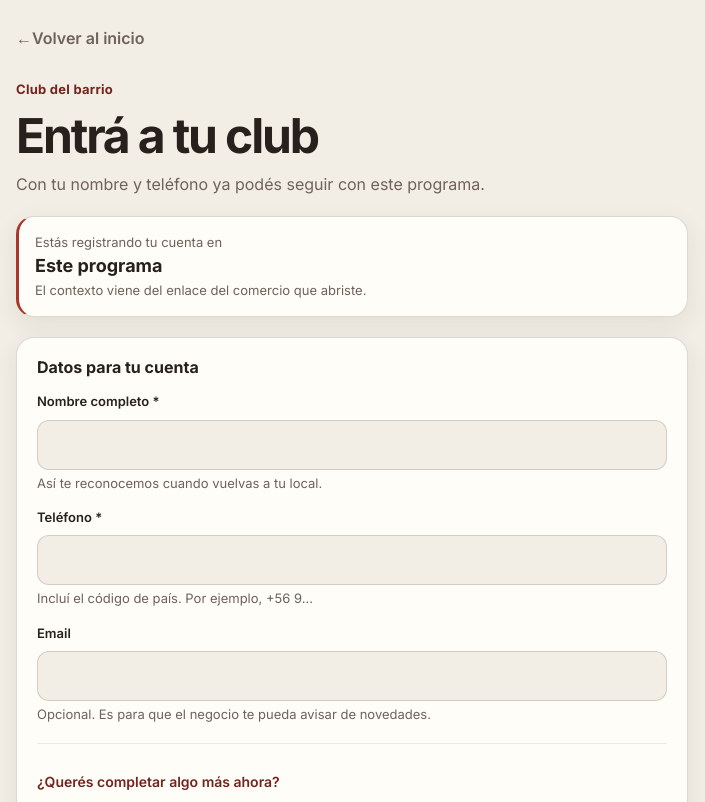
registration behavior › surfaces a 4xx server message without reporting a local gateway outage
This screenshot has width=705, height=802.
Step 1. Type "Ada Lovelace" into the field labelled "Nombre completo *" → [352, 445], box x1=37 y1=420 x2=667 y2=470
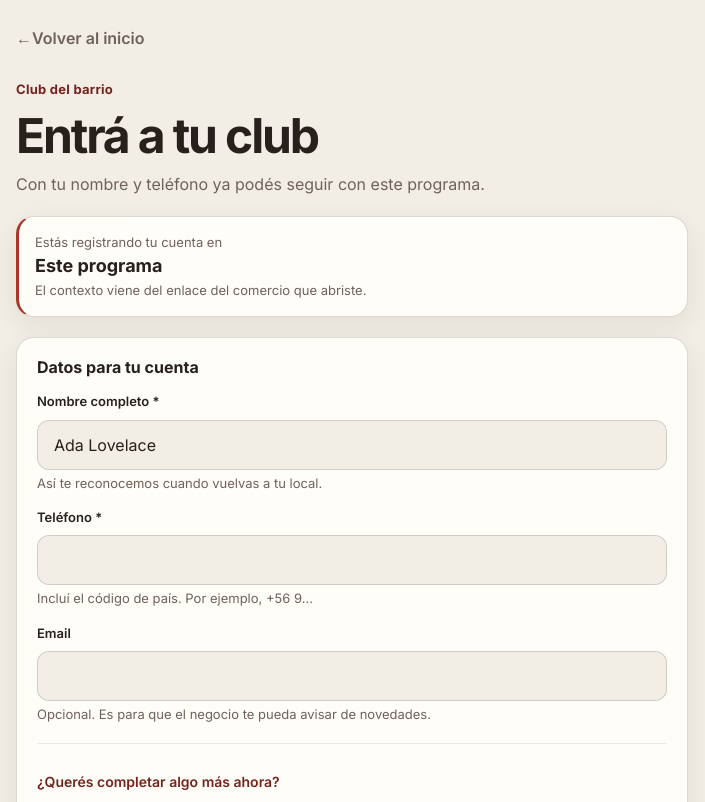
Step 2. Type "+56 9 1234 5678" into the field labelled "Teléfono *" → [352, 560], box x1=37 y1=535 x2=667 y2=585
(page scrolled)
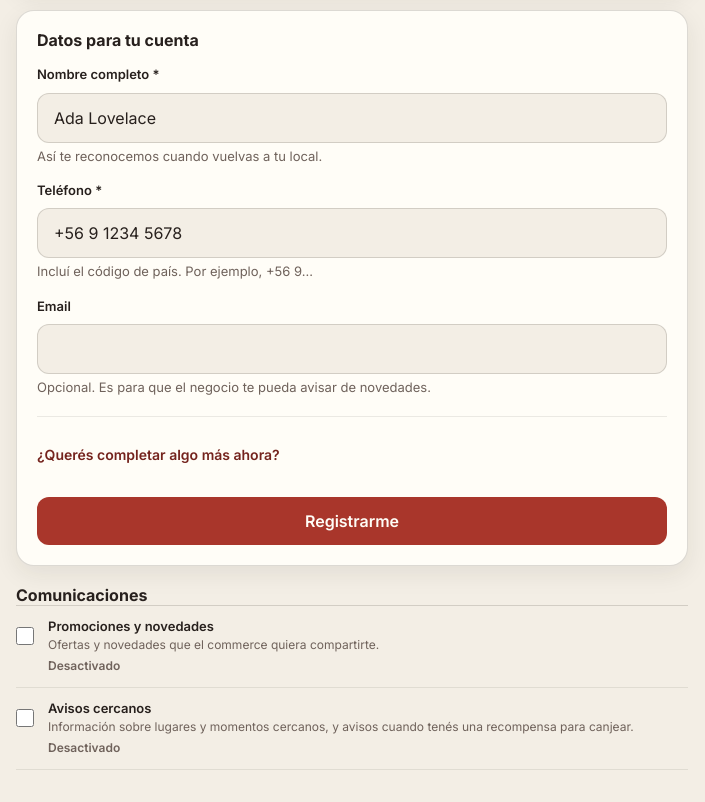
Step 3. Click the button "Registrarme" → [352, 521], box x1=37 y1=497 x2=667 y2=545
(page scrolled)
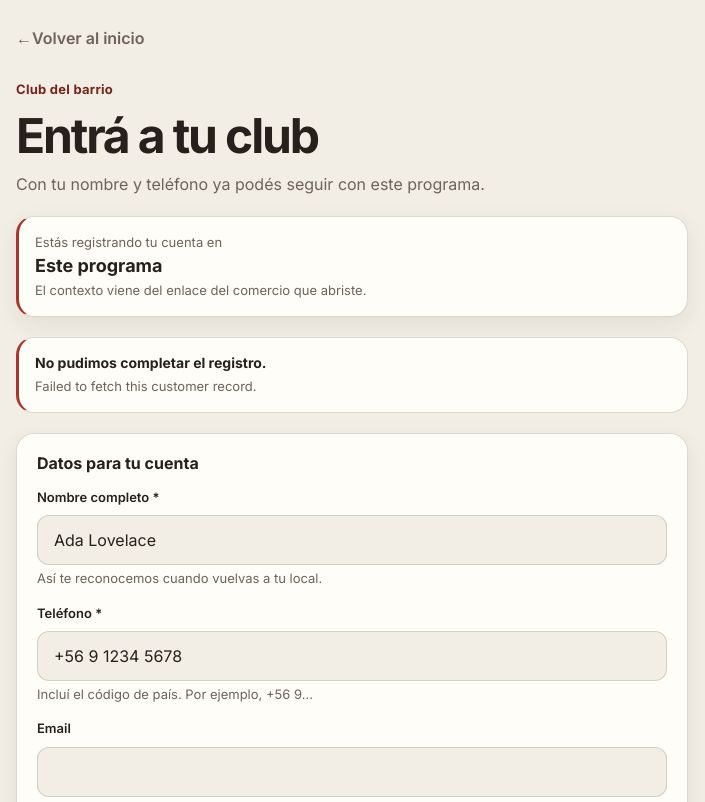
expect the text "Failed to fetch this customer record." is shown: met, box x1=35 y1=378 x2=256 y2=394
